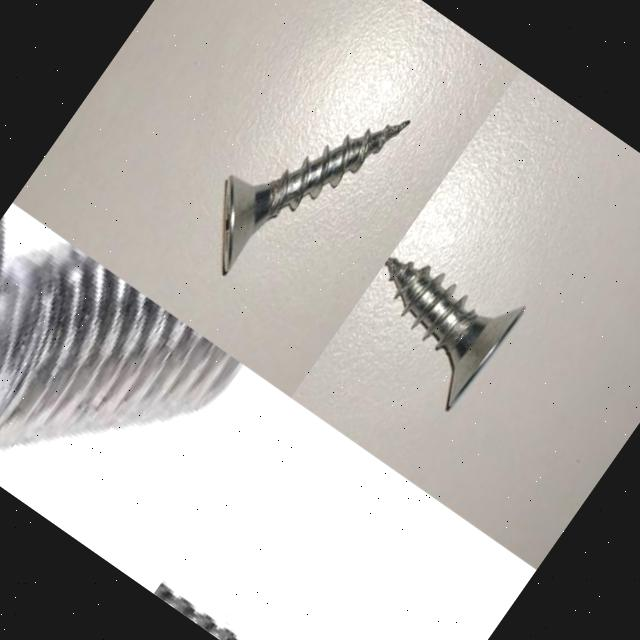Screw: (0, 242, 239, 447), (222, 120, 410, 274), (384, 256, 525, 410), (153, 585, 237, 640)
